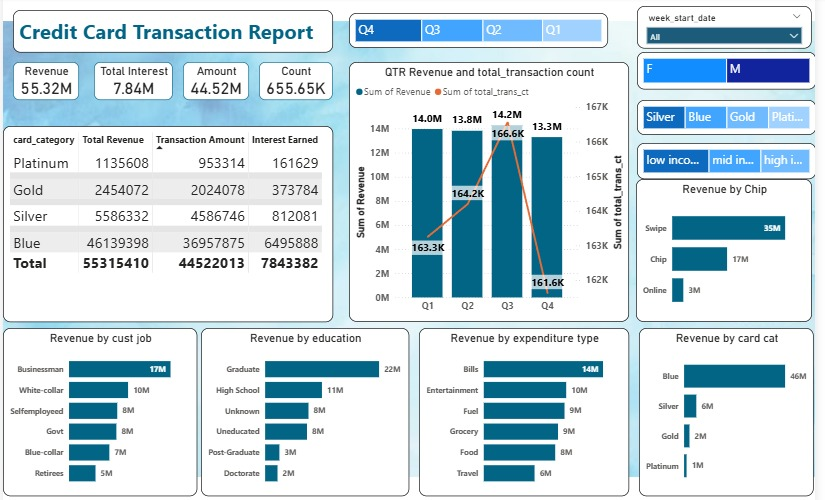

Layout of this report page (visuals, bound fields, positions):
{"tool":"powerbi","page":{"name":"CC transaction","canvas":[1280,800],"ordinal":0},"visuals":[{"type":"textbox","box":[15.1,20.2,503.9,67.2],"z":0},{"type":"lineStackedColumnComboChart","title":"QTR Revenue and total_transaction count","fields":{"Category":["public cc_detail.qtr"],"Y":["Sum(public cc_detail.Revenue)"],"Y2":["Sum(public cc_detail.total_trans_ct)"]},"box":[544.9,102.4,440.9,409.4],"z":1000},{"type":"barChart","title":" Revenue by cust job","fields":{"Y":["Sum(public cc_detail.Revenue)"],"Category":["public cust_detail.customer_job"]},"box":[0,520.7,305.7,265.4],"z":2000},{"type":"barChart","title":" Revenue by education","fields":{"Y":["Sum(public cc_detail.Revenue)"],"Category":["public cust_detail.education_level"]},"box":[312.4,520.7,327.6,265.4],"z":3000},{"type":"barChart","title":" Revenue by expenditure type","fields":{"Y":["Sum(public cc_detail.Revenue)"],"Category":["public cc_detail.exp_type"]},"box":[655.1,520.7,330.9,265.4],"z":4000},{"type":"barChart","title":" Revenue by Chip","fields":{"Y":["Sum(public cc_detail.Revenue)"],"Category":["public cc_detail.use_chip"]},"box":[996.1,287.2,277.2,225.1],"z":5000},{"type":"barChart","title":" Revenue by card cat","fields":{"Y":["Sum(public cc_detail.Revenue)"],"Category":["public cc_detail.card_category"]},"box":[1001.2,520.7,275.5,265.4],"z":6000},{"type":"tableEx","fields":{"Values":["public cc_detail.card_category","Sum(public cc_detail.Revenue)","Sum(public cc_detail.total_trans_amt)","Sum(public cc_detail.interest_earned)"]},"box":[0,203.1,519.7,308.7],"z":7000},{"type":"card","title":"Revenue","fields":{"Values":["Sum(public cc_detail.Revenue)"]},"box":[15.1,102.5,104,60.5],"z":8000},{"type":"card","title":"Total Interest","fields":{"Values":["Sum(public cc_detail.interest_earned)"]},"box":[142.8,102.5,124.3,60.5],"z":9000},{"type":"card","title":"Amount","fields":{"Values":["Sum(public cc_detail.total_trans_amt)"]},"box":[283.9,102.5,104,60.5],"z":10000},{"type":"card","title":"Count","fields":{"Values":["Sum(public cc_detail.total_trans_ct)"]},"box":[403.1,102.5,115.9,60.5],"z":11000},{"type":"slicer","fields":{"Values":["public cc_detail.week_start_date"]},"box":[997.8,13.4,275.5,67.2],"z":12000},{"type":"treemap","fields":{"Group":["public cc_detail.qtr"],"Values":["Avg(public cc_detail.client_num)"]},"box":[544.3,25.2,408.2,55.4],"z":13000},{"type":"treemap","fields":{"Values":["Avg(public cc_detail.client_num)"],"Group":["public cust_detail.gender"]},"box":[997.8,87.3,282.2,58.8],"z":14000},{"type":"treemap","fields":{"Values":["Avg(public cc_detail.client_num)"],"Group":["public cc_detail.card_category"]},"box":[997.8,162.9,282.2,55.4],"z":15000},{"type":"treemap","fields":{"Group":["public cust_detail.income group"],"Values":["CountNonNull(public cc_detail.client_num)"]},"box":[997.8,230.1,282.2,57.1],"z":16000}]}

Visuals, with their boxes in screenshot pixels (x1, y1, x2, y2):
textbox: region(8, 6, 330, 49)
"QTR Revenue and total_transaction count" lineStackedColumnComboChart: region(346, 59, 629, 321)
" Revenue by cust job" barChart: region(0, 327, 193, 496)
" Revenue by education" barChart: region(198, 327, 407, 496)
" Revenue by expenditure type" barChart: region(417, 327, 629, 496)
" Revenue by Chip" barChart: region(635, 177, 812, 321)
" Revenue by card cat" barChart: region(638, 327, 815, 496)
tableEx - public cc_detail.card_category x Sum(public cc_detail.Revenue): region(0, 123, 330, 321)
"Revenue" card: region(8, 59, 74, 98)
"Total Interest" card: region(89, 59, 169, 98)
"Amount" card: region(179, 59, 246, 98)
"Count" card: region(256, 59, 330, 98)
slicer - public cc_detail.week_start_date: region(636, 2, 812, 45)
treemap - public cc_detail.qtr x Avg(public cc_detail.client_num): region(346, 10, 607, 45)
treemap - Avg(public cc_detail.client_num) x public cust_detail.gender: region(636, 49, 817, 87)
treemap - Avg(public cc_detail.client_num) x public cc_detail.card_category: region(636, 98, 817, 133)
treemap - public cust_detail.income group x CountNonNull(public cc_detail.client_num): region(636, 141, 817, 177)
